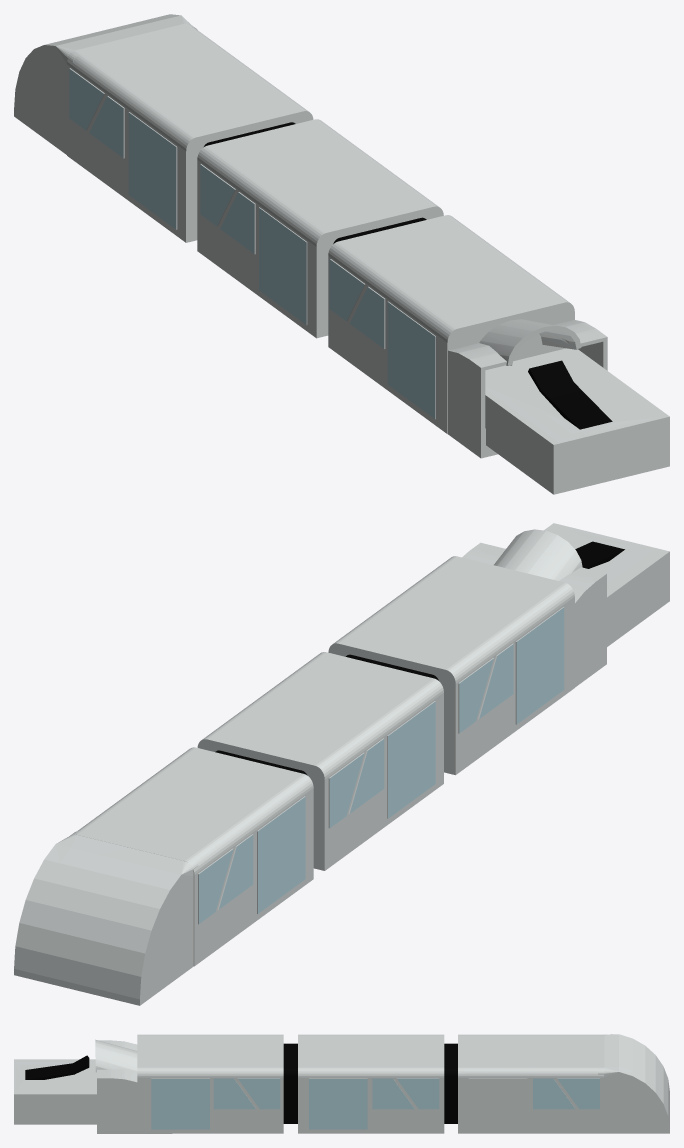
The model's file is Train_Coloured_New.fbx.
The picture shows the model from 3 angles, top to bottom: view 1: azimuth 30°, elevation 25°; view 2: azimuth 150°, elevation 25°; view 3: azimuth 270°, elevation 25°; orthographic projection. The views are drawn at different scales.
Visible parts, largest first — view 1: pCube4; view 2: pCube4; view 3: pCube4.
Boxes of the visible parts, left/top/right/bottom form: pCube4: left=14, top=14, right=669, bottom=494; pCube4: left=14, top=523, right=669, bottom=1005; pCube4: left=14, top=1034, right=669, bottom=1133.
Bounding box in the file's own units: 447 × 389 × 3212.
